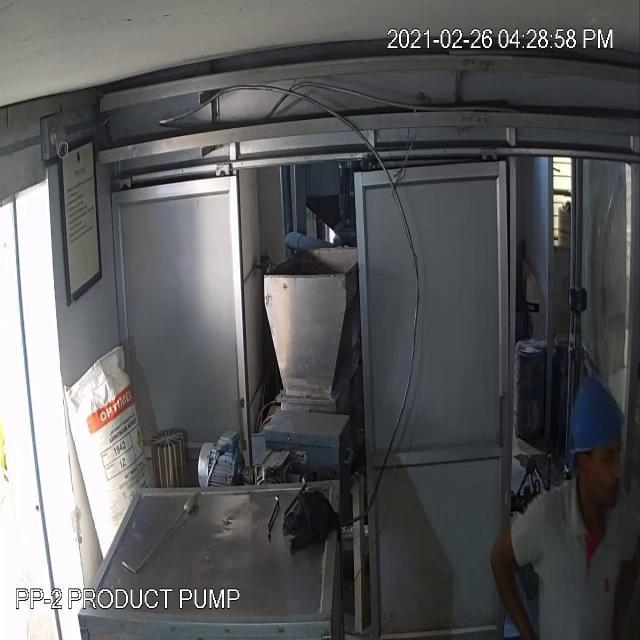no-helmet: (560, 364, 630, 489)
